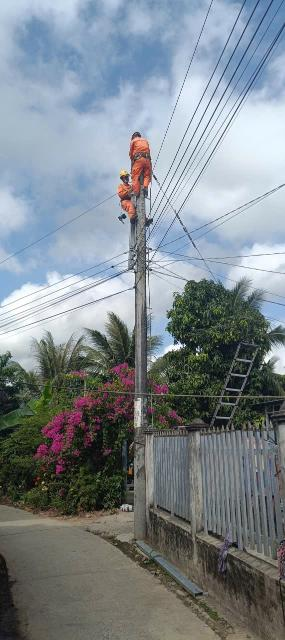harness: (133, 151, 154, 159), (118, 196, 134, 202)
helmet: (114, 171, 131, 181), (128, 130, 144, 140)
shoes: (143, 218, 156, 226), (129, 215, 139, 225), (141, 188, 151, 197), (128, 192, 140, 197)
